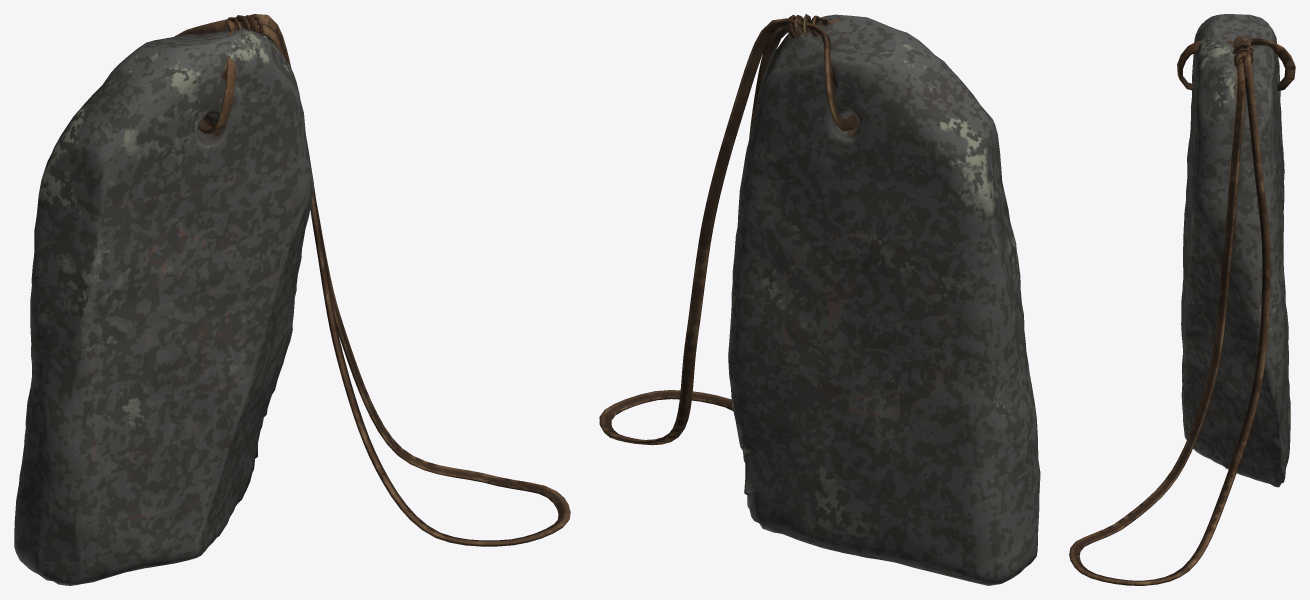
Rendered from SM_RuneStone.fbx.
3 renders of one model, left to right at view 1: azimuth 30°, elevation 25°; view 2: azimuth 150°, elevation 25°; view 3: azimuth 270°, elevation 25°, orthographic. The views are drawn at different scales.
Parts seen in each view (by area): view 1: SM_RuneStone; view 2: SM_RuneStone; view 3: SM_RuneStone.
Part boxes in pixels (<box>): SM_RuneStone: <box>14,14,570,585</box>; SM_RuneStone: <box>599,14,1040,585</box>; SM_RuneStone: <box>1069,14,1295,585</box>.
Bounding box in the file's own units: 0.2143 × 0.2185 × 0.1015.
1 material, 1 textured.
